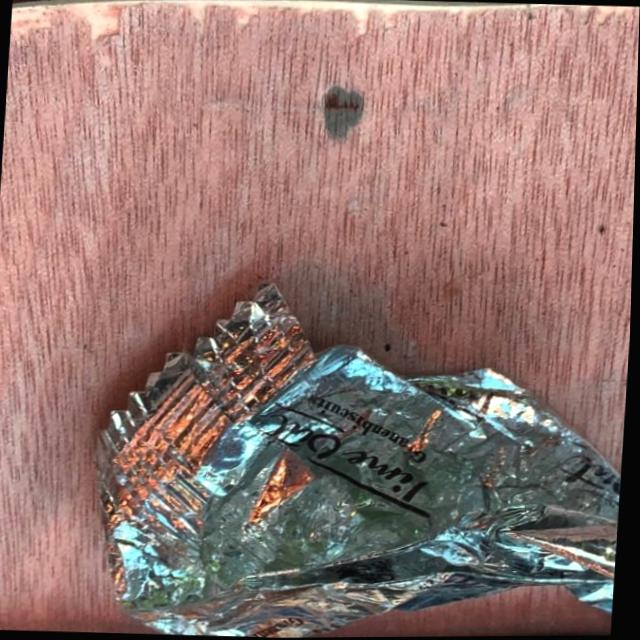Plastic: (77, 269, 634, 639)
